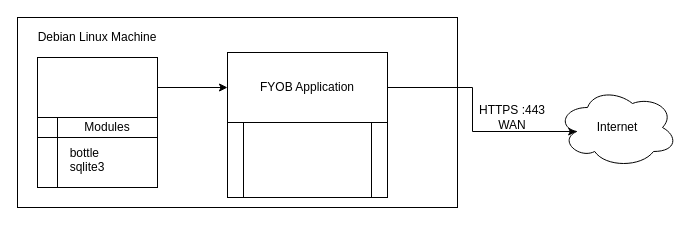
This 695x233 diagram has some shape labels left out. Each missing label, with the centre of its shape:
"Default: Single Thread CherryPi: Multi-thread" belongs at point 307,160.
"Python 3.X" belongs at point 97,87.
